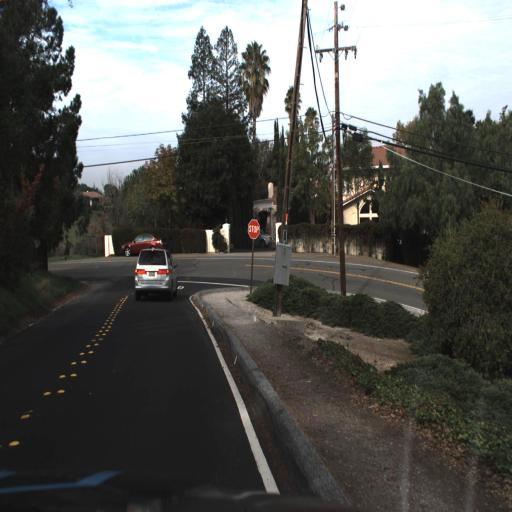car: (131, 247, 180, 301), (125, 235, 160, 258)
